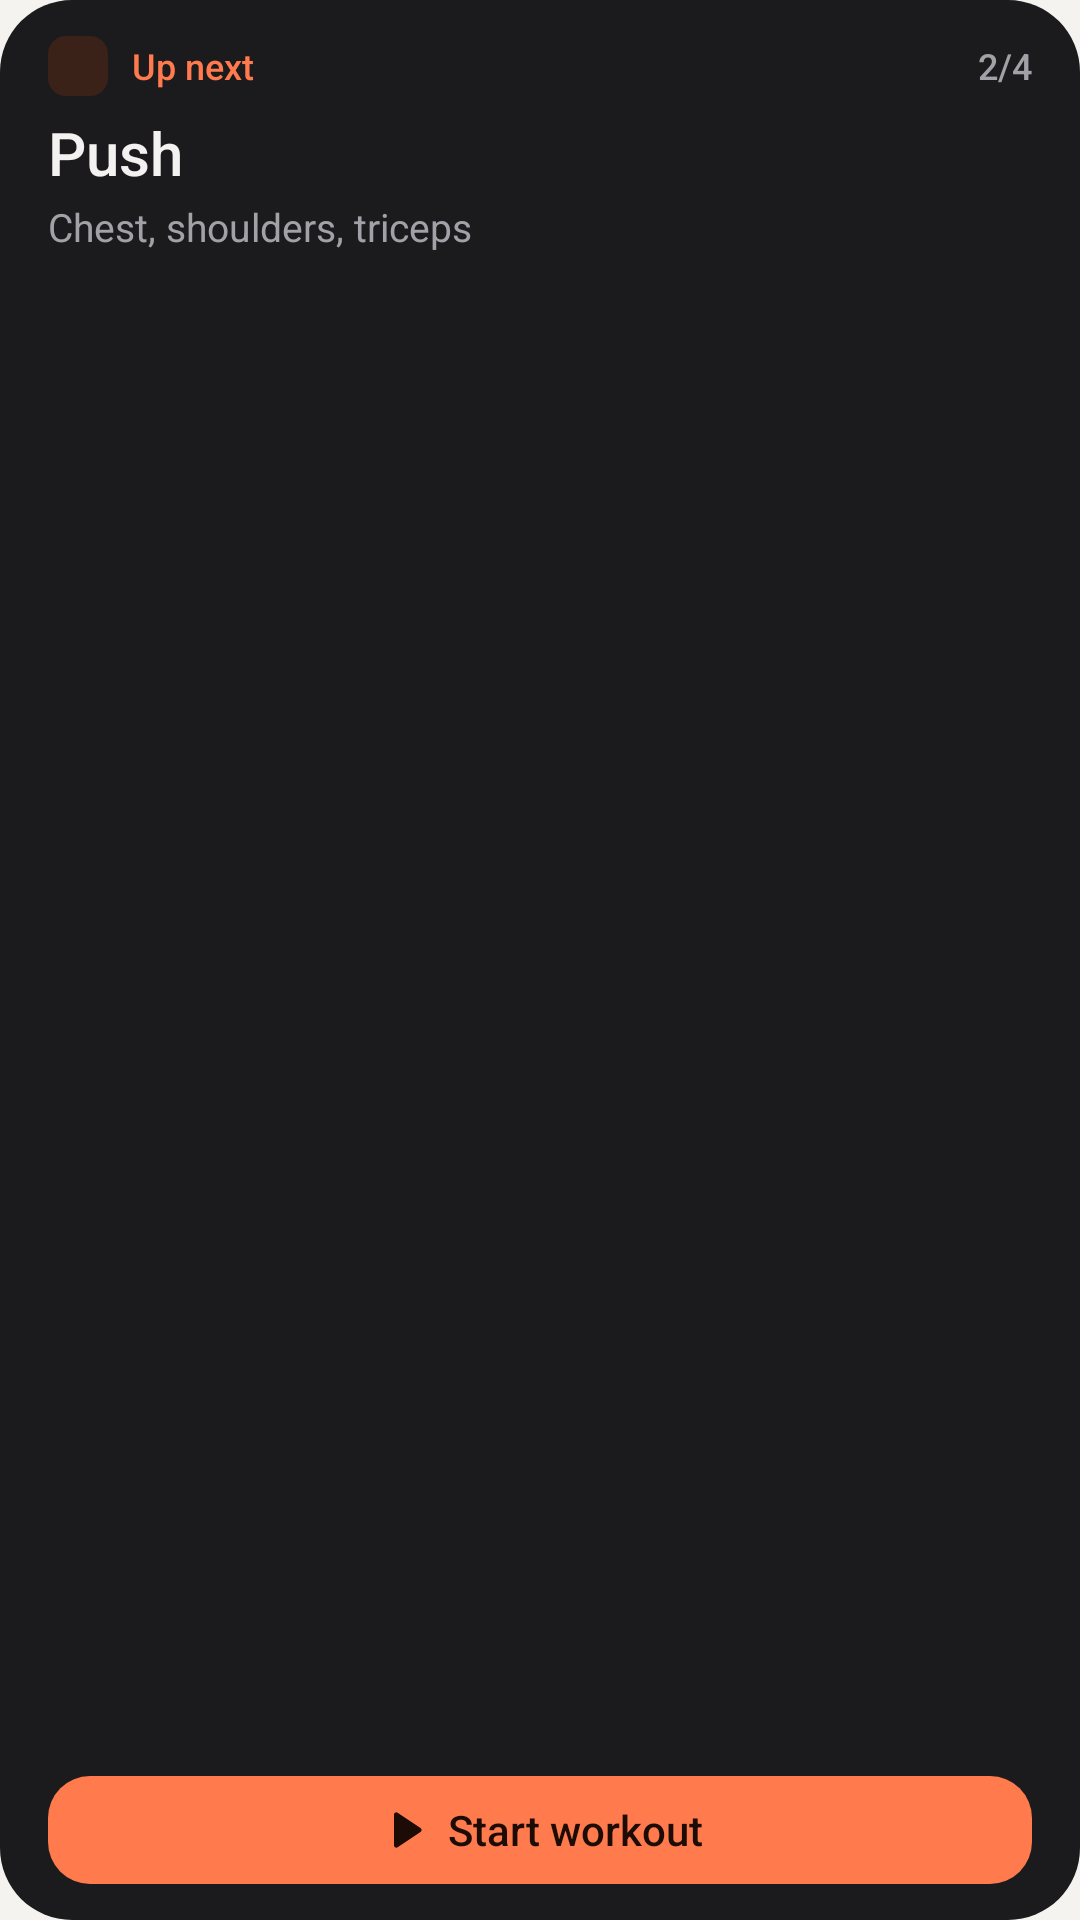

Locate icon controls on the screen. Image size 1080 x 1920, boxes as Rect(x1, y1, x2, y2).
widget play: Rect(394, 1812, 422, 1848)
